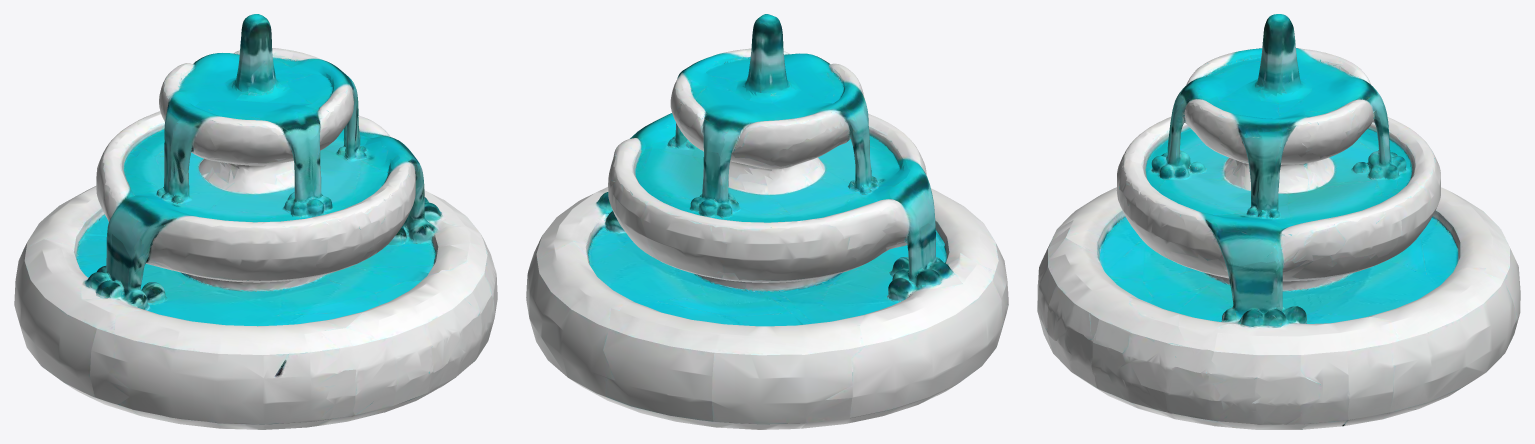
File: fountain.glb
3 renders of one model, left to right at view 1: azimuth 30°, elevation 25°; view 2: azimuth 150°, elevation 25°; view 3: azimuth 270°, elevation 25°, orthographic.
Bounding box in the file's own units: 1.9 × 1.4 × 1.9.
1 material, 1 textured.
